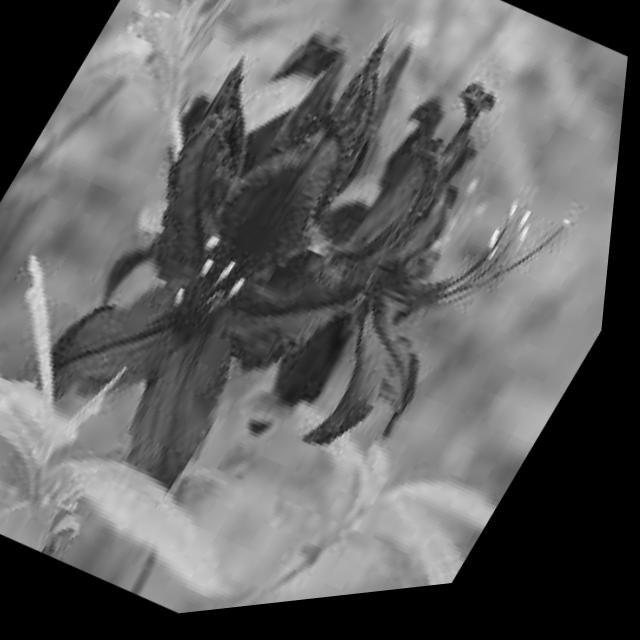Flower: (0, 18, 461, 563), (188, 47, 606, 521)
